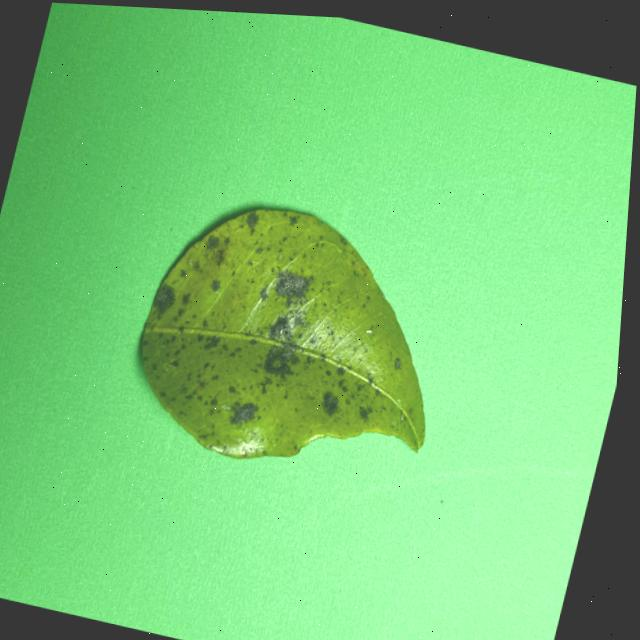sooty_mold: (141, 209, 425, 457)
